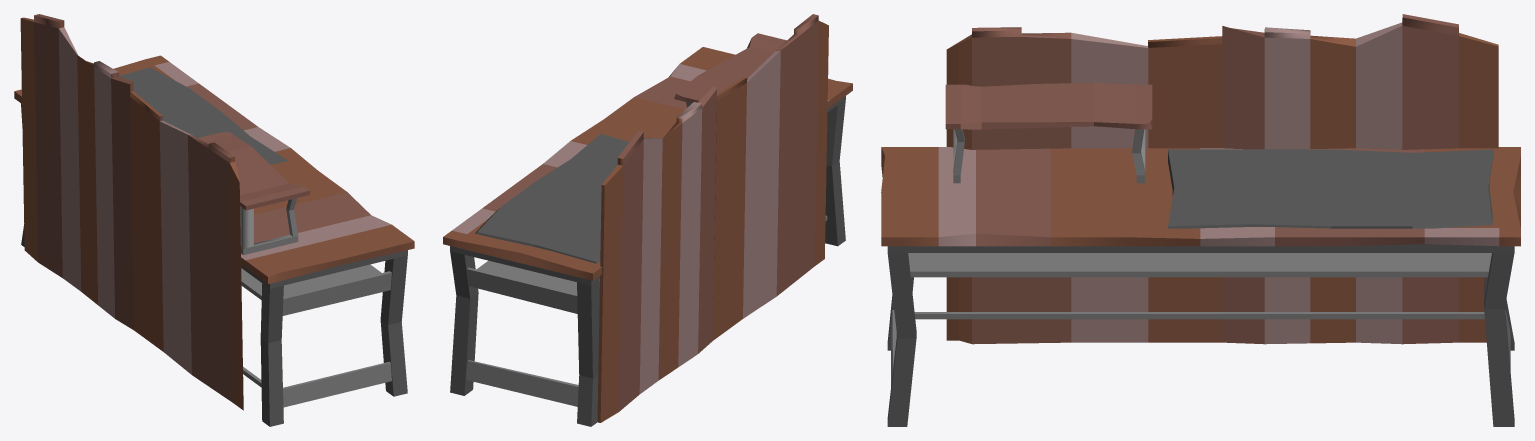
File: WeaponSmith.fbx
3 renders of one model, left to right at view 1: azimuth 30°, elevation 25°; view 2: azimuth 150°, elevation 25°; view 3: azimuth 270°, elevation 25°, orthographic. The views are drawn at different scales.
Visible parts, largest first — view 1: Cube; view 2: Cube; view 3: Cube.
Boxes of the visible parts, x1,y1,x2,y2 form: Cube: (14,14,414,426); Cube: (443,14,852,426); Cube: (881,14,1520,426).
Size of the model in its own units: 211 by 336 by 600.
